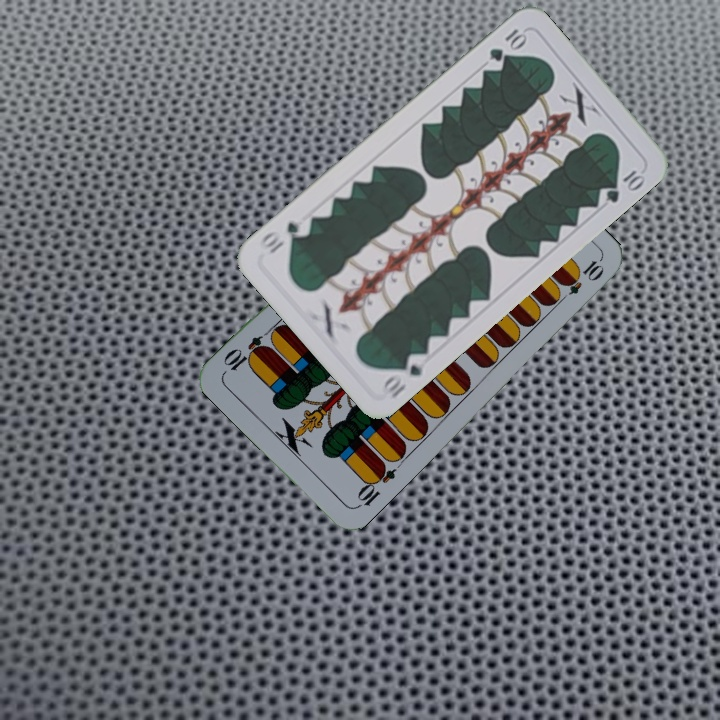E10: (352, 458, 399, 511)
G10: (376, 348, 426, 401), (485, 24, 530, 64)
